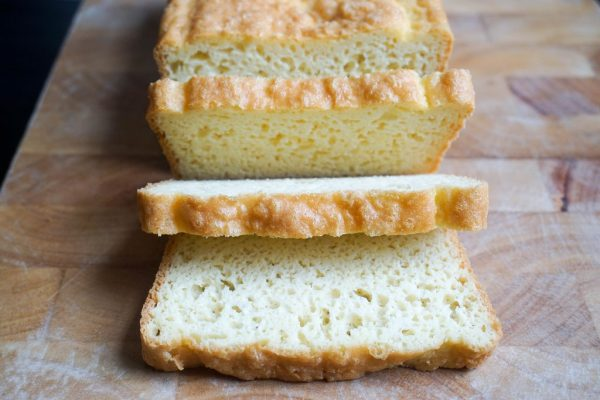slice of bread: (136, 237, 522, 373), (149, 77, 472, 171), (150, 1, 453, 79), (138, 174, 496, 235)
